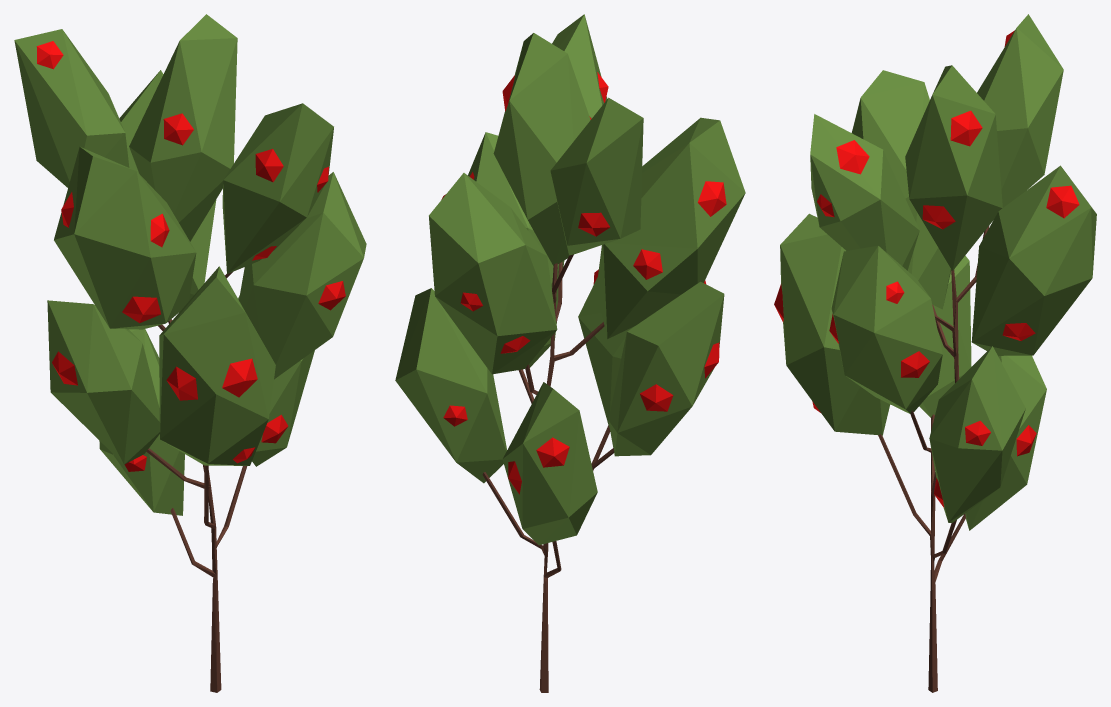
The model's file is mountain_ash_with_berries_1.fbx.
The picture shows the model from 3 angles, left to right: view 1: azimuth 30°, elevation 25°; view 2: azimuth 150°, elevation 25°; view 3: azimuth 270°, elevation 25°; orthographic projection. The views are drawn at different scales.
Parts seen in each view (by area): view 1: mountain_ash_with_berries_1; view 2: mountain_ash_with_berries_1; view 3: mountain_ash_with_berries_1.
Boxes of the visible parts, x1=… form: mountain_ash_with_berries_1: x1=14, y1=14, x2=366, y2=692; mountain_ash_with_berries_1: x1=395, y1=14, x2=745, y2=692; mountain_ash_with_berries_1: x1=774, y1=14, x2=1096, y2=692.
Size of the model in its own units: 189 by 411 by 192.
